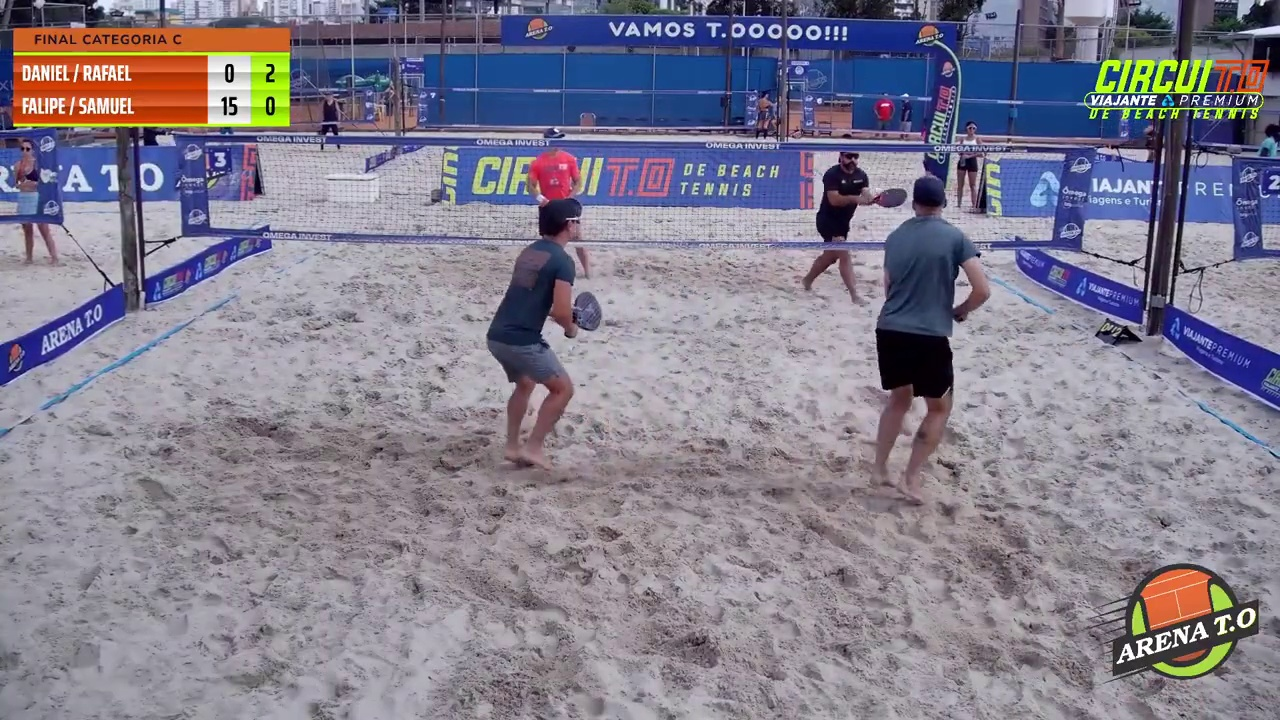court_line: (637, 0, 805, 352)
